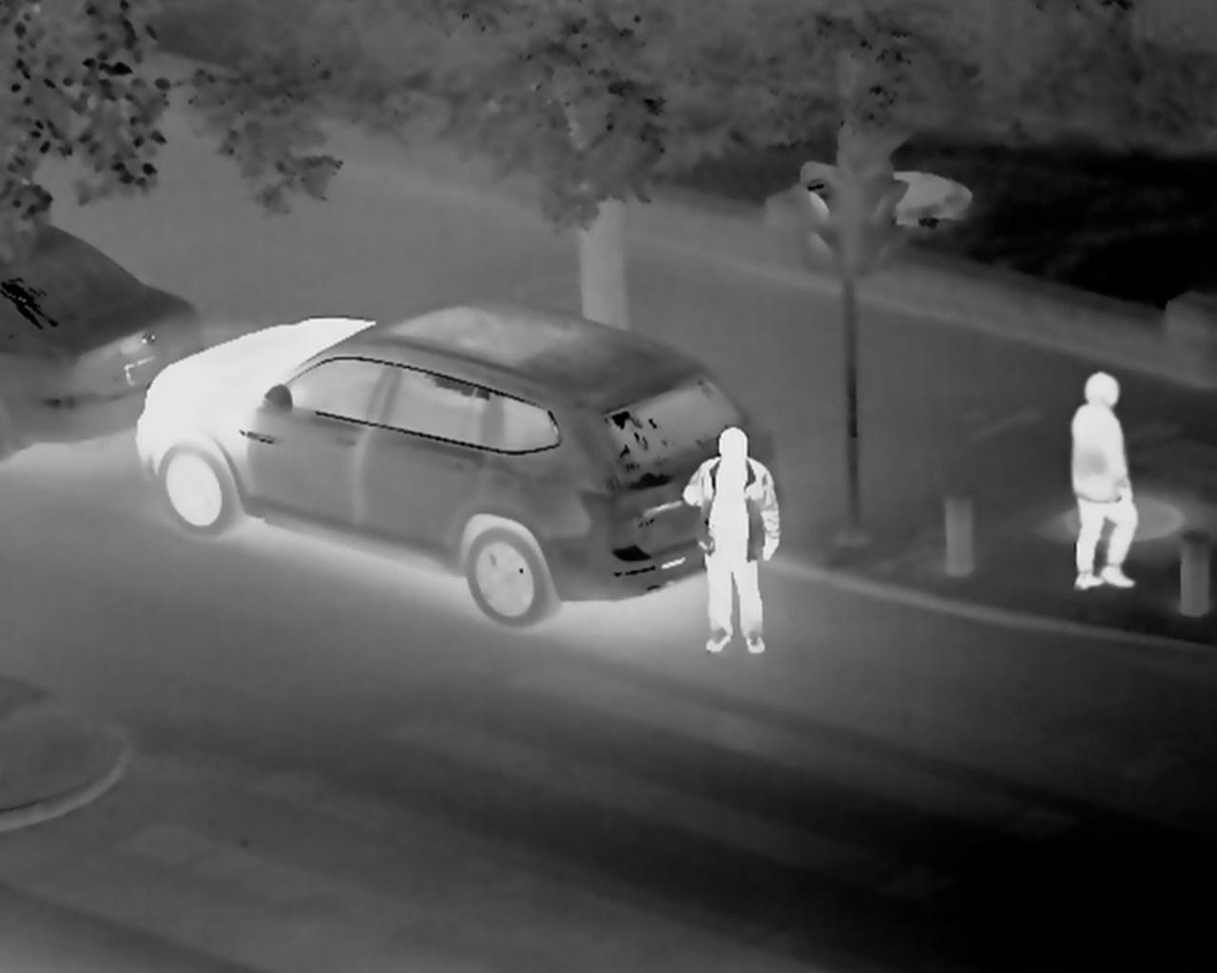person: (682, 426, 782, 651), (1069, 373, 1143, 595)
